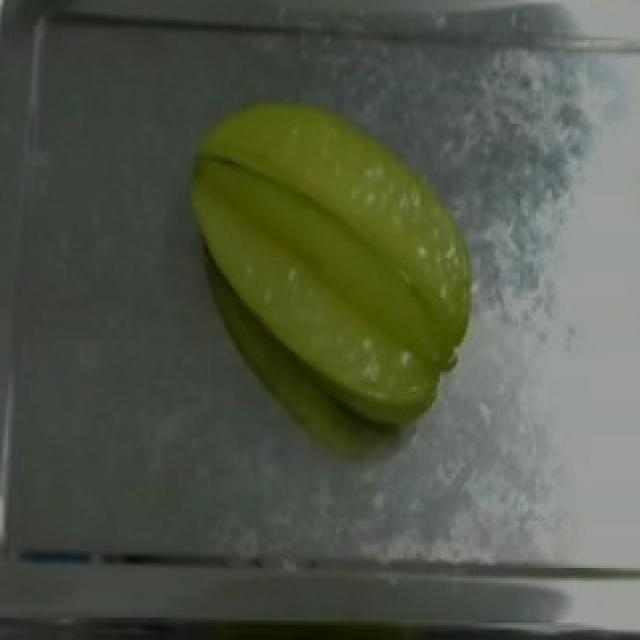fruit: (170, 82, 498, 446)
